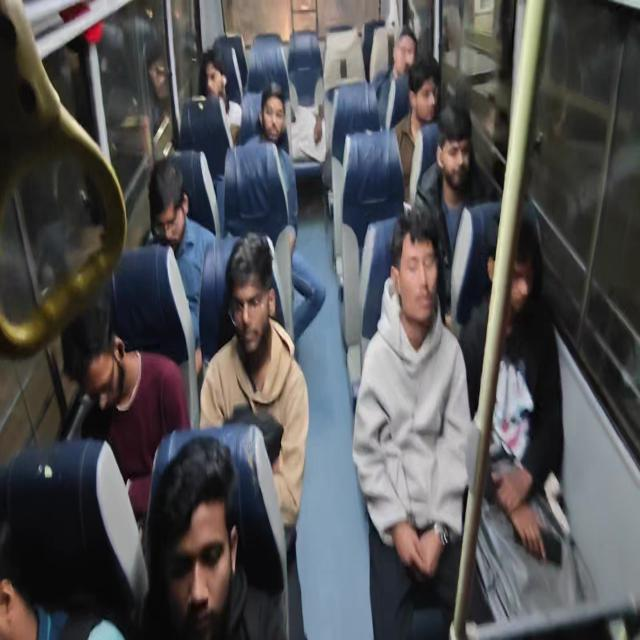person: (146, 429, 234, 640), (67, 295, 135, 428), (226, 228, 280, 376), (392, 204, 450, 322), (481, 214, 540, 320), (0, 488, 41, 631), (149, 156, 194, 258), (428, 94, 472, 190), (199, 37, 242, 110), (407, 58, 441, 127), (256, 76, 286, 146), (392, 26, 418, 75)
